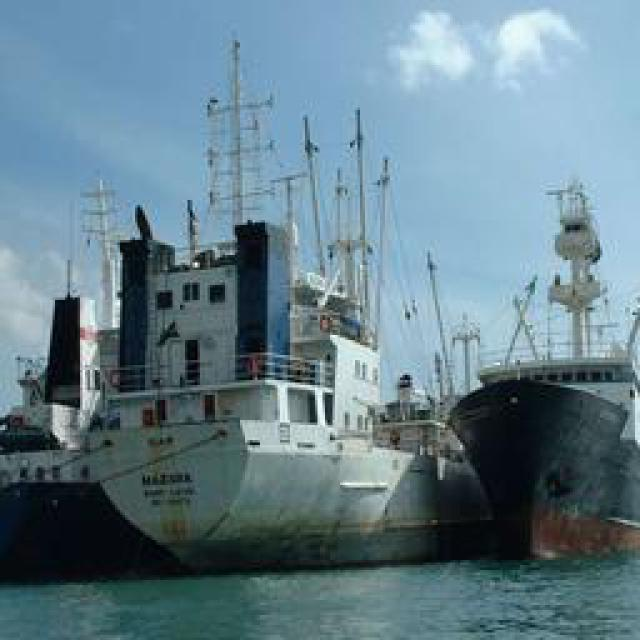Ship: (15, 82, 598, 575)
